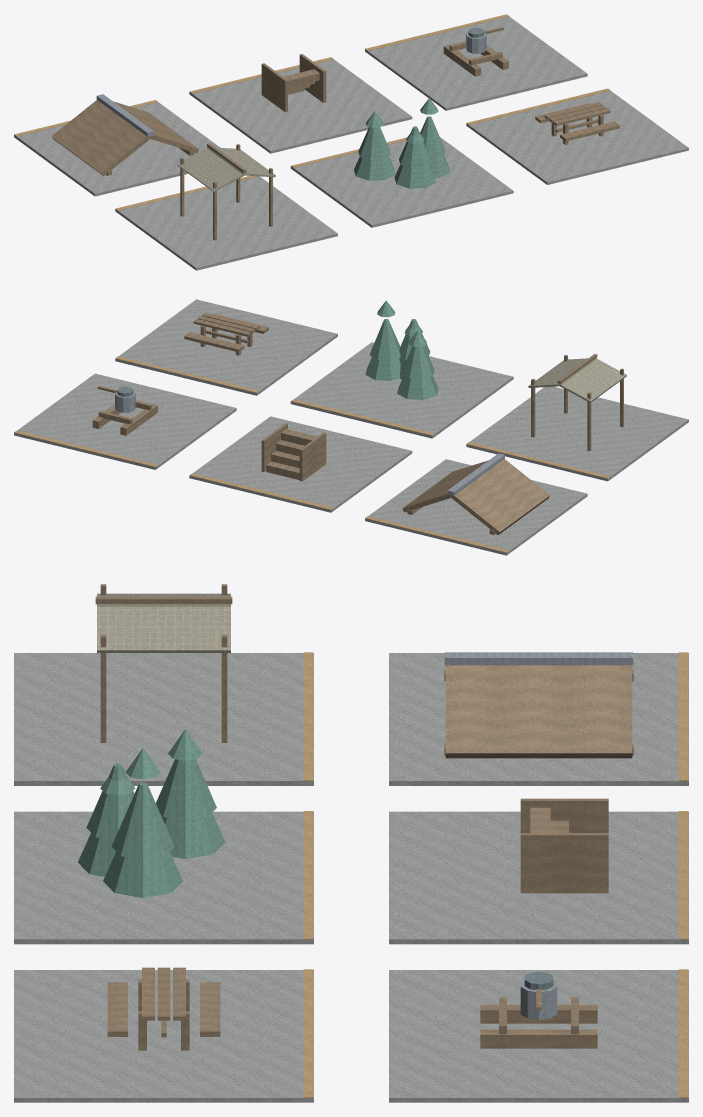
The model's file is level_blockout_kit_wld_01_p04.glb.
The picture shows the model from 3 angles, top to bottom: view 1: azimuth 30°, elevation 25°; view 2: azimuth 150°, elevation 25°; view 3: azimuth 270°, elevation 25°; orthographic projection. The views are drawn at different scales.
Visible parts, largest first — view 1: level_blockout_kit_wld_01_p04; view 2: level_blockout_kit_wld_01_p04; view 3: level_blockout_kit_wld_01_p04.
Boxes of the visible parts, <box> form: level_blockout_kit_wld_01_p04: <box>14,14,688,270</box>; level_blockout_kit_wld_01_p04: <box>14,299,688,555</box>; level_blockout_kit_wld_01_p04: <box>14,584,688,1102</box>.
Bounding box in the file's own units: 19.65 × 3.13 × 12.6.
7 materials, 7 textured.
